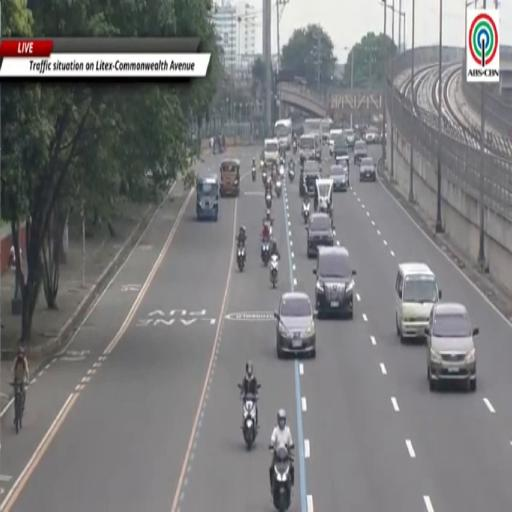bus: (197, 174, 219, 221), (220, 159, 240, 197), (304, 119, 323, 158), (274, 119, 292, 150), (304, 119, 322, 135)
car: (426, 302, 479, 391), (395, 263, 441, 343), (313, 247, 356, 318), (274, 292, 315, 358), (306, 213, 334, 258), (300, 160, 321, 197), (330, 166, 349, 190), (333, 135, 348, 163), (360, 157, 376, 181), (328, 129, 342, 156), (354, 141, 367, 165), (343, 128, 356, 149), (365, 127, 379, 145)
motorcycle: (272, 445, 293, 511), (242, 395, 258, 450), (270, 254, 278, 288), (261, 239, 270, 265), (237, 245, 245, 271), (303, 203, 310, 223), (275, 179, 282, 198), (265, 192, 272, 209), (289, 162, 294, 181), (278, 164, 284, 179), (262, 170, 267, 185), (289, 168, 294, 182), (252, 166, 255, 182), (293, 141, 296, 155), (260, 160, 264, 168)
